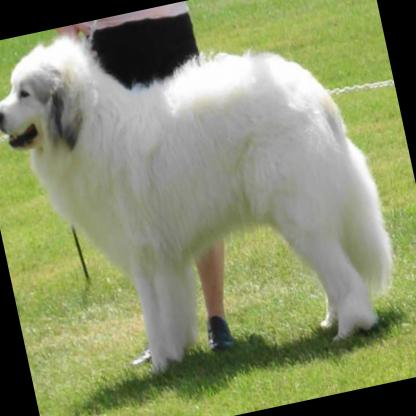Great_Pyrenees: (0, 0, 411, 408)
